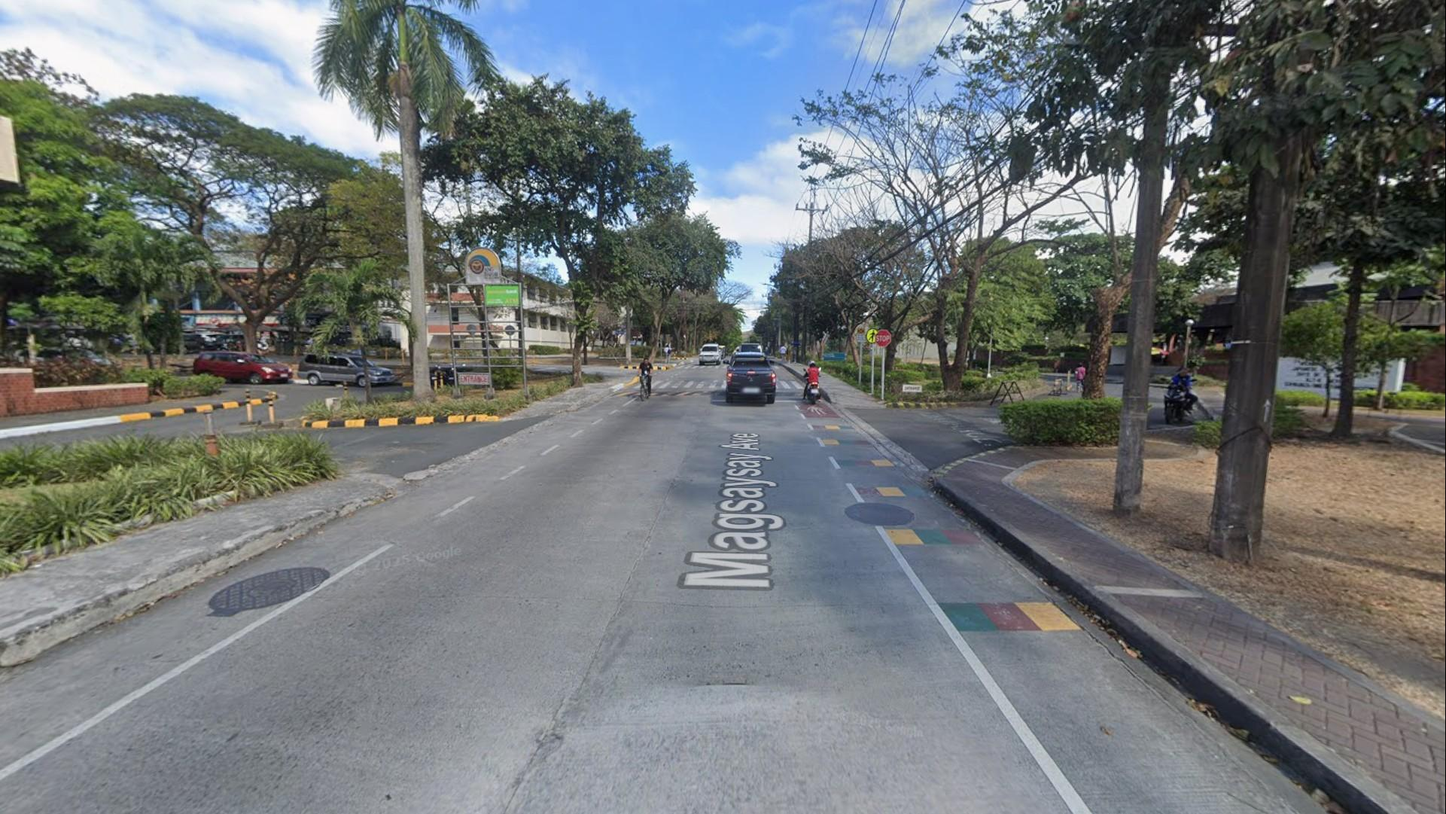cyclist: (635, 356, 654, 403)
pedestrian: (1075, 362, 1087, 395), (663, 342, 672, 364), (790, 343, 798, 363), (780, 343, 787, 363)
